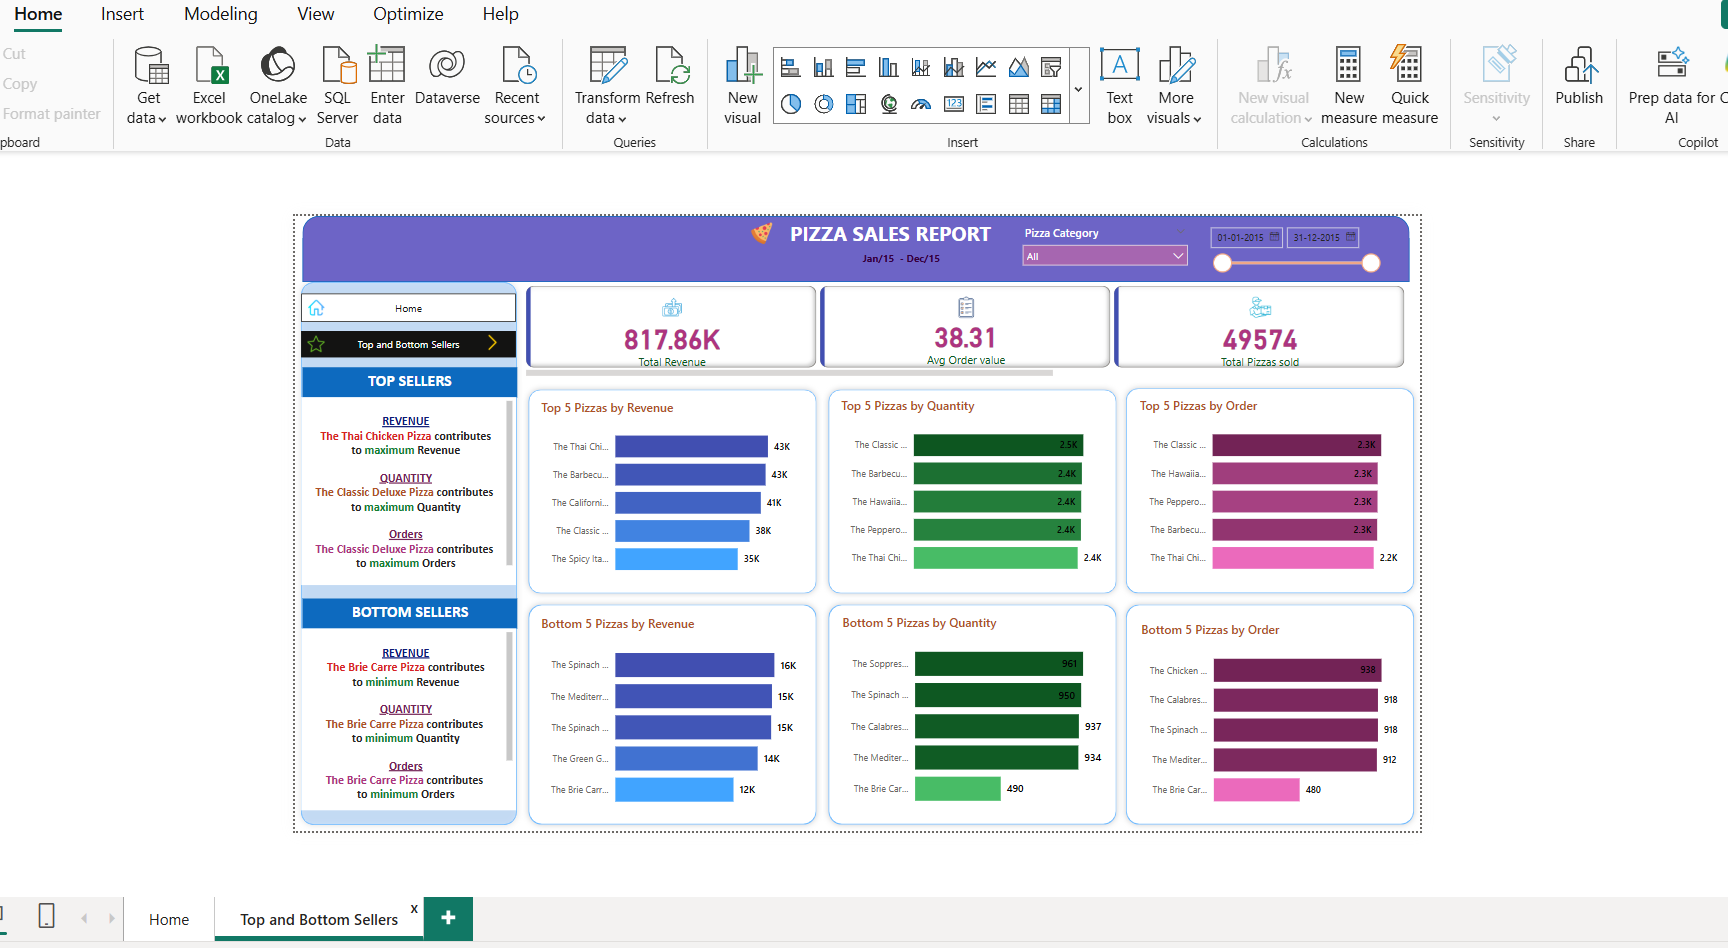

This screenshot's page, from the dashboard's own definition file:
{"tool":"powerbi","page":{"name":"Top and Bottom Sellers ","canvas":[1500,820],"ordinal":1},"visuals":[{"type":"shape","box":[302.7,222.7,400,288],"z":0},{"type":"shape","box":[0,80,303.8,740],"z":1000},{"type":"shape","box":[10,0,1476,88],"z":2000},{"type":"textbox","box":[655,0,287.5,52.5],"z":3000},{"type":"textbox","box":[752,42,124,36],"z":4000},{"type":"image","box":[590.5,4.1,64.9,39.2],"z":5000},{"type":"textbox","box":[9.2,202.3,286.2,40],"z":6000},{"type":"textbox","box":[8.9,242.2,286.7,250],"z":7000},{"type":"textbox","box":[10,510,286.7,40],"z":8000},{"type":"textbox","box":[8.9,550,286.7,242.2],"z":9000},{"type":"slicer","fields":{"Values":["pizza_sales.pizza_category"]},"box":[960,6,240,76],"z":10000},{"type":"slicer","fields":{"Values":["pizza_sales.order_date"]},"box":[1208.8,5,247.5,75],"z":11000},{"type":"shape","box":[702.7,222.7,400,288],"z":12000},{"type":"shape","box":[1100,221.3,400,289.3],"z":13000},{"type":"shape","box":[304,510.7,400,309.3],"z":14000},{"type":"shape","box":[704,510.7,400,309.3],"z":15000},{"type":"shape","box":[1100,510.7,400,309.3],"z":16000},{"type":"barChart","title":"Top 5 Pizzas by Revenue","fields":{"Category":["pizza_sales.pizza_name"],"Y":["pizza_sales.Total Revenue"]},"box":[322.7,242.7,362.7,250],"z":17000},{"type":"cardVisual","fields":{"Data":["pizza_sales.Total Revenue","pizza_sales.Avg Order value","pizza_sales.Total Pizzas sold","pizza_sales.Total Orders","pizza_sales.Avg Pizzas Per Order"]},"box":[303.8,87.5,1182.5,132.5],"z":18000},{"type":"barChart","title":"Bottom 5 Pizzas by Revenue","fields":{"Category":["pizza_sales.pizza_name"],"Y":["pizza_sales.Total Revenue"]},"box":[323.3,531.1,363.3,272.2],"z":19000},{"type":"barChart","title":"Top 5 Pizzas by Quantity","fields":{"Category":["pizza_sales.pizza_name"],"Y":["pizza_sales.Total Pizzas sold"]},"box":[722.7,240.9,357.3,250],"z":20000},{"type":"barChart","title":"Bottom 5 Pizzas by Quantity","fields":{"Category":["pizza_sales.pizza_name"],"Y":["pizza_sales.Total Pizzas sold"]},"box":[724.5,530,357.3,272.7],"z":21000},{"type":"barChart","title":"Top 5 Pizzas by Order","fields":{"Category":["pizza_sales.pizza_name"],"Y":["pizza_sales.Total Orders"]},"box":[1121.8,240.9,357.3,250],"z":22000},{"type":"barChart","title":"Bottom 5 Pizzas by Order","fields":{"Category":["pizza_sales.pizza_name"],"Y":["pizza_sales.Total Orders"]},"box":[1122.7,540,357.3,262.7],"z":23000},{"type":"pageNavigator","box":[8.7,154,286.7,35.3],"z":24000},{"type":"pageNavigator","box":[8.7,104,286.7,38],"z":25000},{"type":"image","box":[245.3,154,36.7,30.7],"z":26000},{"type":"image","box":[0,107.3,57.3,31.3],"z":27000},{"type":"image","box":[12,149.3,33.3,40],"z":28000}]}

Visuals, with their boxes on the page's 1500x820 design canvas (x1, y1, x2, y2). These are canvas units, not pixel positions in the 1728x948 screenshot, which may show the page scaled, cropped or inside an application window:
shape: locate(303, 223, 703, 511)
shape: locate(0, 80, 304, 820)
shape: locate(10, 0, 1486, 88)
textbox: locate(655, 0, 942, 52)
textbox: locate(752, 42, 876, 78)
image: locate(590, 4, 655, 43)
textbox: locate(9, 202, 295, 242)
textbox: locate(9, 242, 296, 492)
textbox: locate(10, 510, 297, 550)
textbox: locate(9, 550, 296, 792)
slicer - pizza_sales.pizza_category: locate(960, 6, 1200, 82)
slicer - pizza_sales.order_date: locate(1209, 5, 1456, 80)
shape: locate(703, 223, 1103, 511)
shape: locate(1100, 221, 1500, 511)
shape: locate(304, 511, 704, 820)
shape: locate(704, 511, 1104, 820)
shape: locate(1100, 511, 1500, 820)
"Top 5 Pizzas by Revenue" barChart: locate(323, 243, 685, 493)
cardVisual - pizza_sales.Total Revenue x pizza_sales.Avg Order value: locate(304, 88, 1486, 220)
"Bottom 5 Pizzas by Revenue" barChart: locate(323, 531, 687, 803)
"Top 5 Pizzas by Quantity" barChart: locate(723, 241, 1080, 491)
"Bottom 5 Pizzas by Quantity" barChart: locate(724, 530, 1082, 803)
"Top 5 Pizzas by Order" barChart: locate(1122, 241, 1479, 491)
"Bottom 5 Pizzas by Order" barChart: locate(1123, 540, 1480, 803)
pageNavigator: locate(9, 154, 295, 189)
pageNavigator: locate(9, 104, 295, 142)
image: locate(245, 154, 282, 185)
image: locate(0, 107, 57, 139)
image: locate(12, 149, 45, 189)
